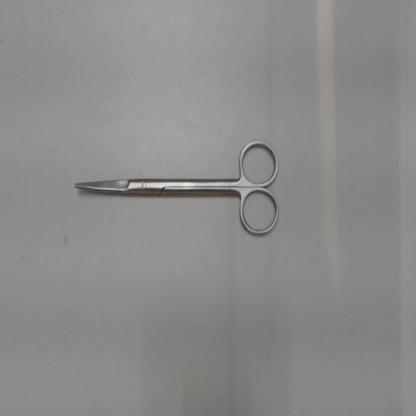Curved Mayo Scissors: (73, 136, 283, 238)
